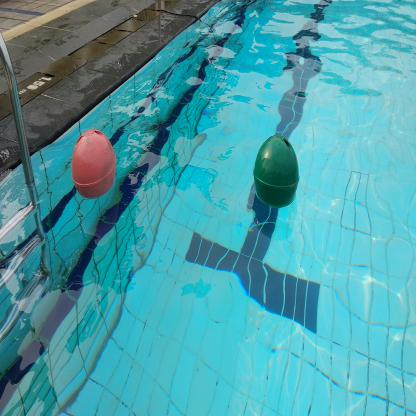green_buoy: (251, 127, 304, 214)
red_buoy: (66, 120, 121, 205)
